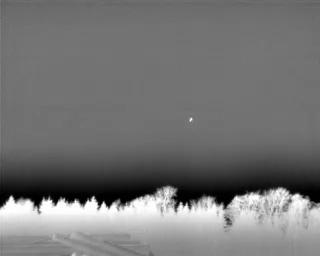BIRD: (187, 115, 195, 125)
